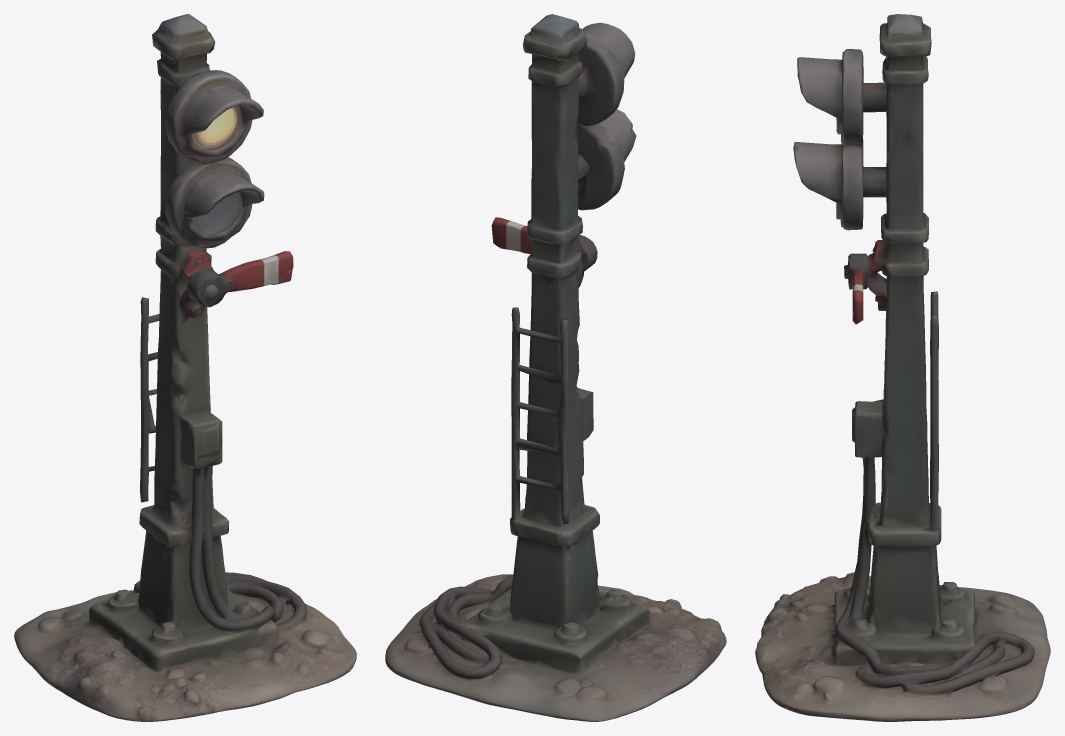
Rendered from railway_station_signal.glb.
3 views of the same model, side by side, from view 1: azimuth 30°, elevation 25°; view 2: azimuth 150°, elevation 25°; view 3: azimuth 270°, elevation 25° (orthographic).
Visible parts, largest first — view 1: tripo_node_8fb06274-c661-4339-b9ad-b7e408c60a25; view 2: tripo_node_8fb06274-c661-4339-b9ad-b7e408c60a25; view 3: tripo_node_8fb06274-c661-4339-b9ad-b7e408c60a25.
Part boxes in pixels (x1=…): tripo_node_8fb06274-c661-4339-b9ad-b7e408c60a25: x1=14, y1=14, x2=356, y2=721; tripo_node_8fb06274-c661-4339-b9ad-b7e408c60a25: x1=385, y1=14, x2=726, y2=721; tripo_node_8fb06274-c661-4339-b9ad-b7e408c60a25: x1=755, y1=14, x2=1050, y2=721.
Size of the model in its own units: 0.4523 by 1 by 0.4195.
1 material, 1 textured.
